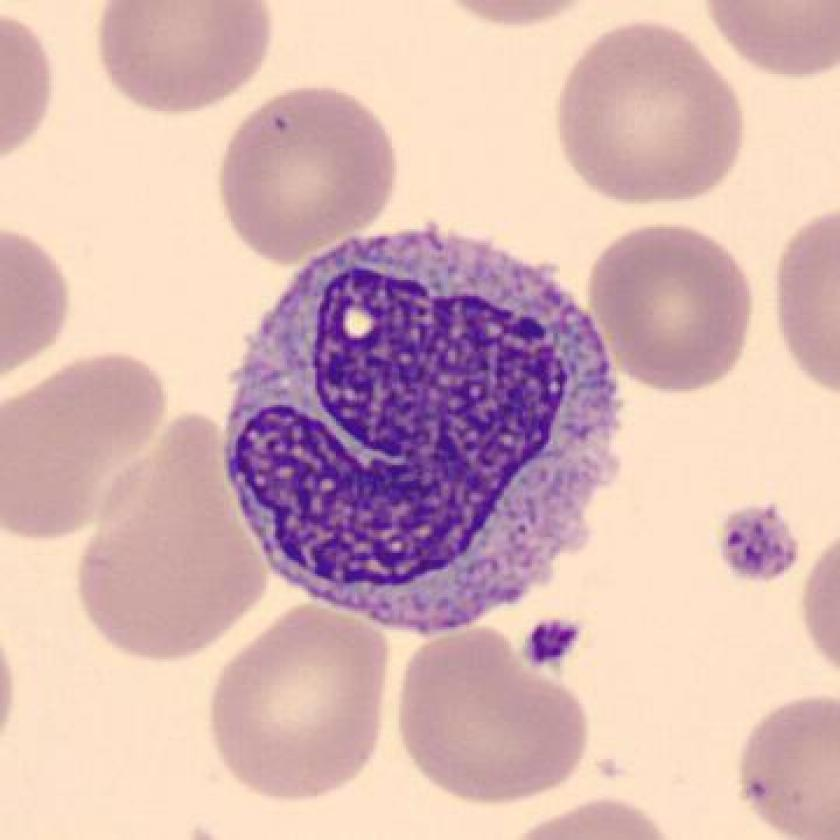monocyte: (202, 205, 647, 658)
